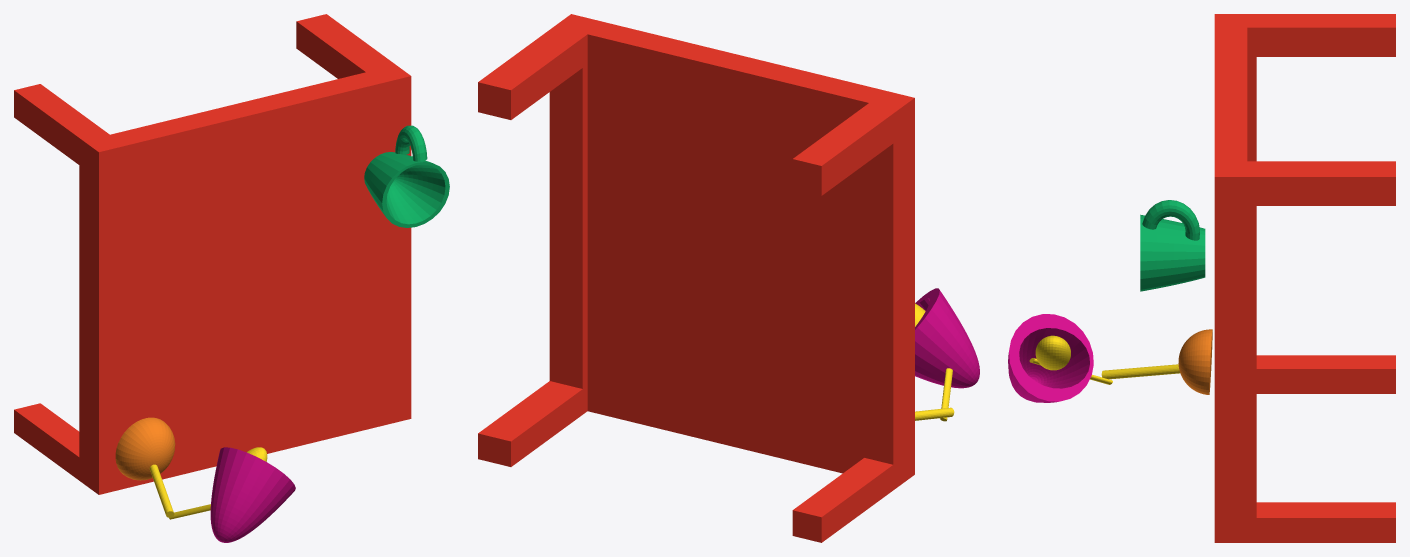
Rendered from tinker.obj.
3 renders of one model, left to right at view 1: azimuth 30°, elevation 25°; view 2: azimuth 150°, elevation 25°; view 3: azimuth 270°, elevation 25°, orthographic. The views are drawn at different scales.
Parts seen in each view (by area): view 1: group_0_16069410, group_0_831586, group_0_14093196, group_0_16089887, group_0_16768282; view 2: group_0_16069410, group_0_14093196, group_0_16768282; view 3: group_0_16069410, group_0_14093196, group_0_831586, group_0_16768282, group_0_16089887.
Part boxes in pixels (bbox=[...]): group_0_16069410: bbox=[14, 14, 411, 494]; group_0_831586: bbox=[364, 125, 449, 227]; group_0_14093196: bbox=[210, 447, 295, 542]; group_0_16089887: bbox=[115, 417, 175, 480]; group_0_16768282: bbox=[149, 447, 267, 519]; group_0_16069410: bbox=[478, 14, 914, 542]; group_0_14093196: bbox=[915, 288, 979, 388]; group_0_16768282: bbox=[915, 303, 954, 421]; group_0_16069410: bbox=[1214, 14, 1395, 542]; group_0_14093196: bbox=[1008, 314, 1093, 402]; group_0_831586: bbox=[1140, 200, 1205, 291]; group_0_16768282: bbox=[1029, 335, 1179, 384]; group_0_16089887: bbox=[1178, 329, 1212, 394].
Size of the model in its own units: 84 by 87 by 83.51.
